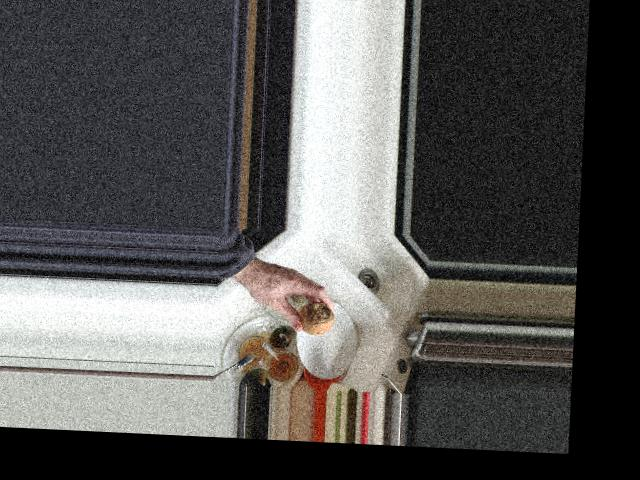sweet_potato: (290, 299, 336, 337)
